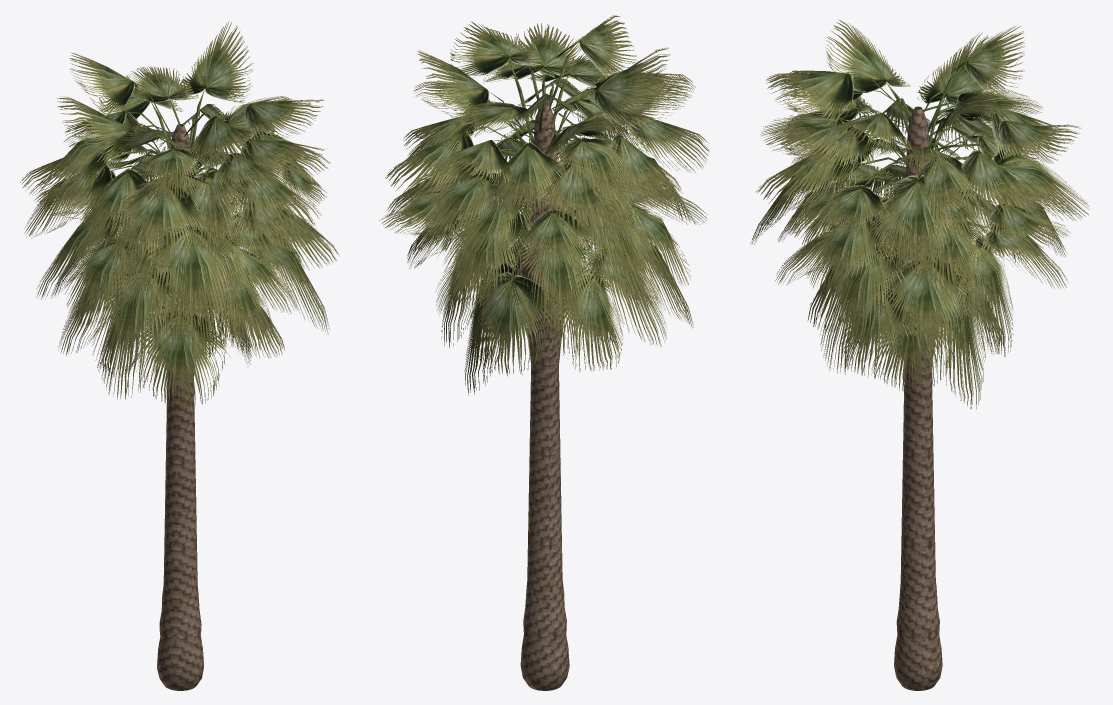
File: palm-fan.glb
3 renders of one model, left to right at view 1: azimuth 30°, elevation 25°; view 2: azimuth 150°, elevation 25°; view 3: azimuth 270°, elevation 25°, orthographic. The views are drawn at different scales.
Parts seen in each view (by area): view 1: PalmBark, PalmLeaf.015, PalmLeaf.006, PalmLeaf.007, PalmLeaf.034, PalmLeaf.014, PalmLeaf.027, PalmLeaf.035, PalmLeaf.025, PalmLeaf, PalmLeaf.017, PalmLeaf.023 (+34 smaller); view 2: PalmBark, PalmLeaf.004, PalmLeaf.008, PalmLeaf.013, PalmLeaf.011, PalmLeaf.033, PalmLeaf.026, PalmLeaf.005, PalmLeaf.044, PalmLeaf.022, PalmLeaf.046, PalmLeaf.040 (+34 smaller); view 3: PalmBark, PalmLeaf.001, PalmLeaf.010, PalmLeaf.059, PalmLeaf.009, PalmLeaf.041, PalmLeaf.012, PalmLeaf.002, PalmLeaf.063, PalmLeaf.031, PalmLeaf.029, PalmLeaf.003 (+32 smaller).
Boxes of the visible parts, x1,y1,x2,y2 form: PalmBark: (157,124,203,690); PalmLeaf.015: (145,182,243,359); PalmLeaf.006: (92,266,190,399); PalmLeaf.007: (132,308,230,407); PalmLeaf.034: (115,169,211,262); PalmLeaf.014: (65,236,153,326); PalmLeaf.027: (181,21,253,150); PalmLeaf.035: (196,154,321,239); PalmLeaf.025: (182,146,250,258); PalmLeaf: (194,270,273,350); PalmLeaf.017: (24,149,158,238); PalmLeaf.023: (80,156,151,245); PalmBark: (520,102,569,690); PalmLeaf.004: (470,238,560,376); PalmLeaf.008: (518,191,601,356); PalmLeaf.013: (443,213,537,307); PalmLeaf.011: (412,149,518,251); PalmLeaf.033: (531,127,630,237); PalmLeaf.026: (550,113,636,221); PalmLeaf.005: (550,252,622,372); PalmLeaf.044: (574,214,660,311); PalmLeaf.022: (487,130,568,215); PalmLeaf.046: (515,196,596,271); PalmLeaf.040: (450,21,543,143); PalmBark: (893,106,942,690); PalmLeaf.001: (817,244,906,374); PalmLeaf.010: (874,148,968,278); PalmLeaf.059: (876,255,977,352); PalmLeaf.009: (806,178,903,293); PalmLeaf.041: (915,265,985,409); PalmLeaf.012: (901,217,995,296); PalmLeaf.002: (953,234,1013,356); PalmLeaf.063: (840,256,919,378); PalmLeaf.031: (766,73,910,125); PalmLeaf.029: (826,19,910,132); PalmLeaf.003: (867,307,952,391).
Bounding box in the file's own units: 4.31 × 9.27 × 4.64.
Materials: 2 (2 with a texture image).
